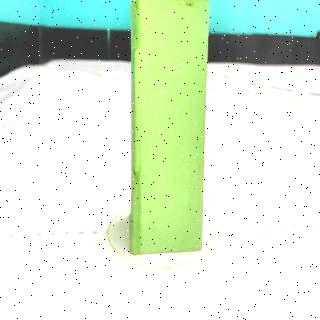greenbox: (128, 0, 208, 254)
